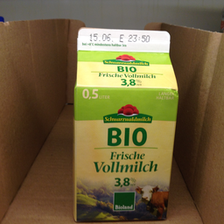milk: (73, 25, 179, 223)
